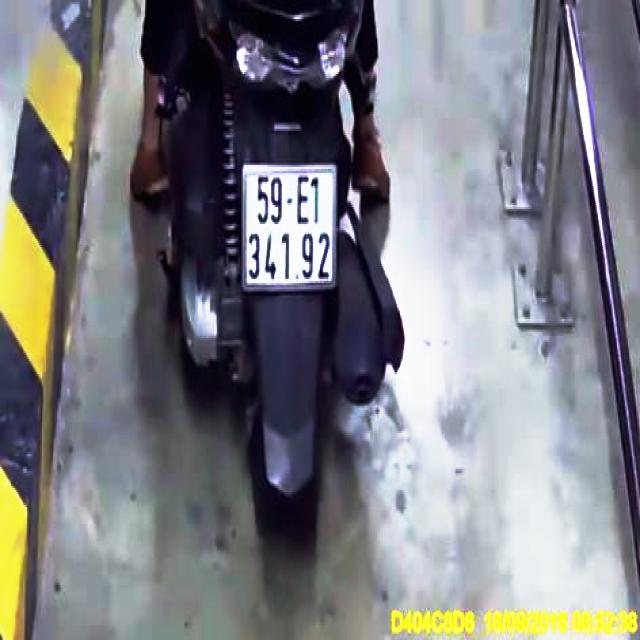license_plate: (243, 165, 337, 292)
